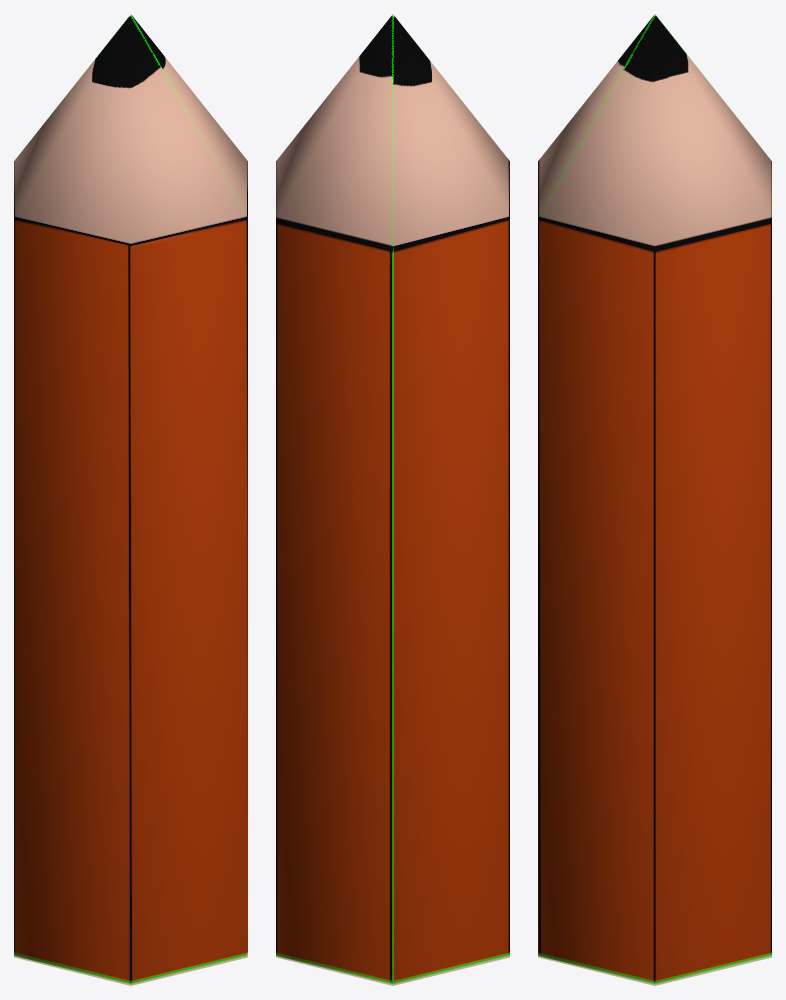
The model's file is pencil01.FBX.
3 views of the same model, side by side, from view 1: azimuth 30°, elevation 25°; view 2: azimuth 150°, elevation 25°; view 3: azimuth 270°, elevation 25° (orthographic).
Parts seen in each view (by area): view 1: Cylinder001; view 2: Cylinder001; view 3: Cylinder001.
Part boxes in pixels (box(x1,y1,x2,y2)): Cylinder001: box(14, 14, 247, 985); Cylinder001: box(276, 14, 509, 985); Cylinder001: box(538, 14, 771, 985).
Size of the model in its own units: 5.67 by 21.22 by 4.91.
Materials: 1 (1 with a texture image).
